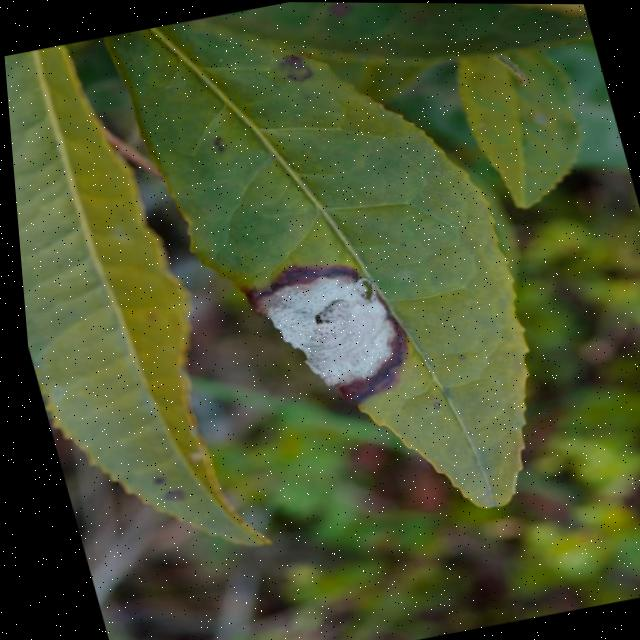Tea cloud leaf blight: (250, 245, 422, 425)
